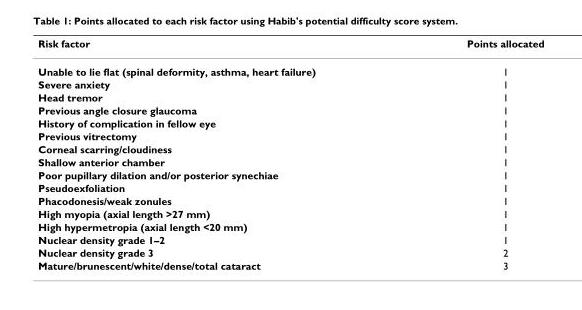table: (37, 36, 543, 271)
table column: (37, 36, 390, 271), (390, 36, 543, 271)
table column header: (37, 36, 543, 56)
table row: (37, 56, 543, 77), (37, 36, 543, 56), (37, 77, 543, 90), (37, 90, 543, 103), (37, 103, 543, 116), (37, 116, 543, 129), (37, 129, 543, 142), (37, 142, 543, 155), (37, 155, 543, 168), (37, 180, 543, 193), (37, 193, 543, 206), (37, 206, 543, 219), (37, 219, 543, 232), (37, 232, 543, 245), (37, 245, 543, 258), (37, 258, 543, 271), (37, 168, 543, 180)
